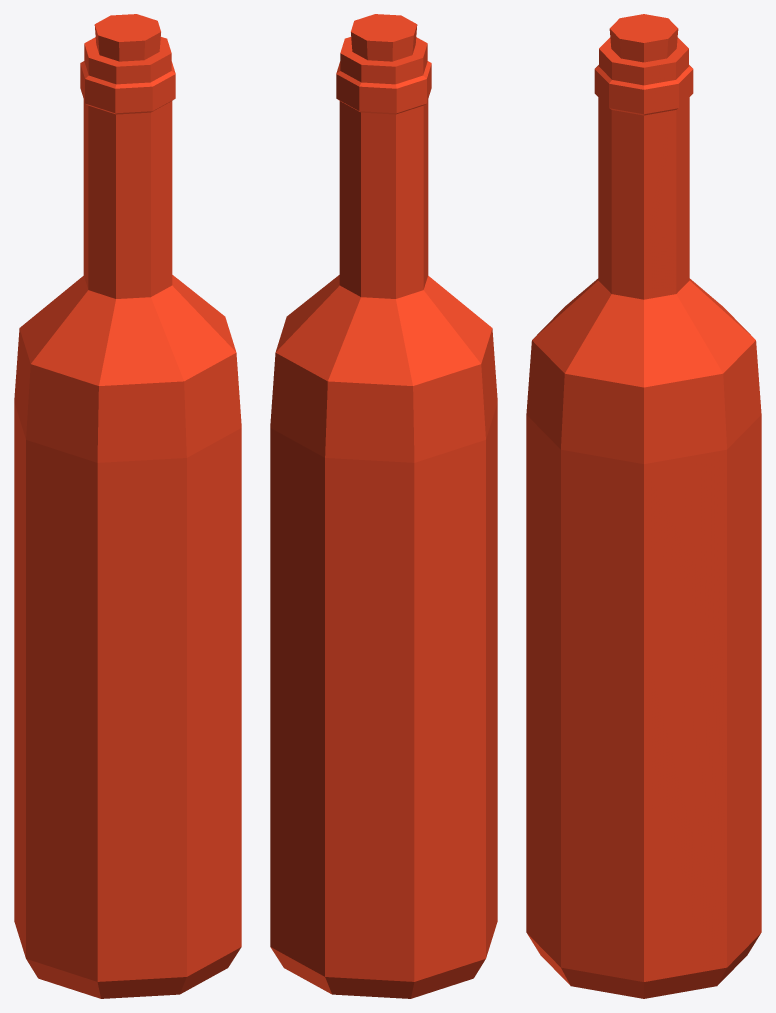
File: SM_Vine_City.fbx
3 views of the same model, side by side, from view 1: azimuth 30°, elevation 25°; view 2: azimuth 150°, elevation 25°; view 3: azimuth 270°, elevation 25° (orthographic).
Parts seen in each view (by area): view 1: SM_Vine_City; view 2: SM_Vine_City; view 3: SM_Vine_City.
Part boxes in pixels (left/top/right/bottom): SM_Vine_City: left=14, top=14, right=241, bottom=998; SM_Vine_City: left=270, top=14, right=497, bottom=998; SM_Vine_City: left=526, top=14, right=761, bottom=998.
Size of the model in its own units: 0.0877 by 0.3812 by 0.0877.
